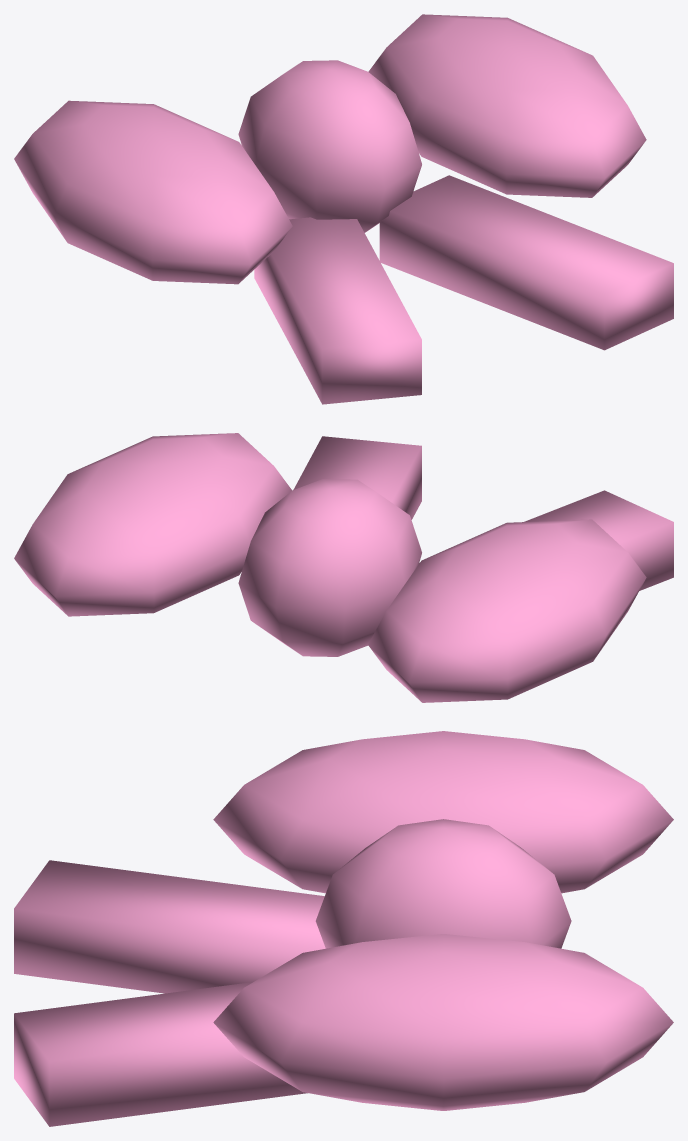
File: bow.glb
3 views of the same model, one above another, from view 1: azimuth 30°, elevation 25°; view 2: azimuth 150°, elevation 25°; view 3: azimuth 270°, elevation 25° (orthographic). The views are drawn at different scales.
Parts seen in each view (by area): view 1: Bow; view 2: Bow; view 3: Bow.
Boxes of the visible parts, x1,y1,x2,y2 form: Bow: (14, 14, 673, 404); Bow: (14, 433, 673, 702); Bow: (14, 731, 673, 1126).
Bounding box in the file's own units: 0.468 × 0.1365 × 0.4126.
